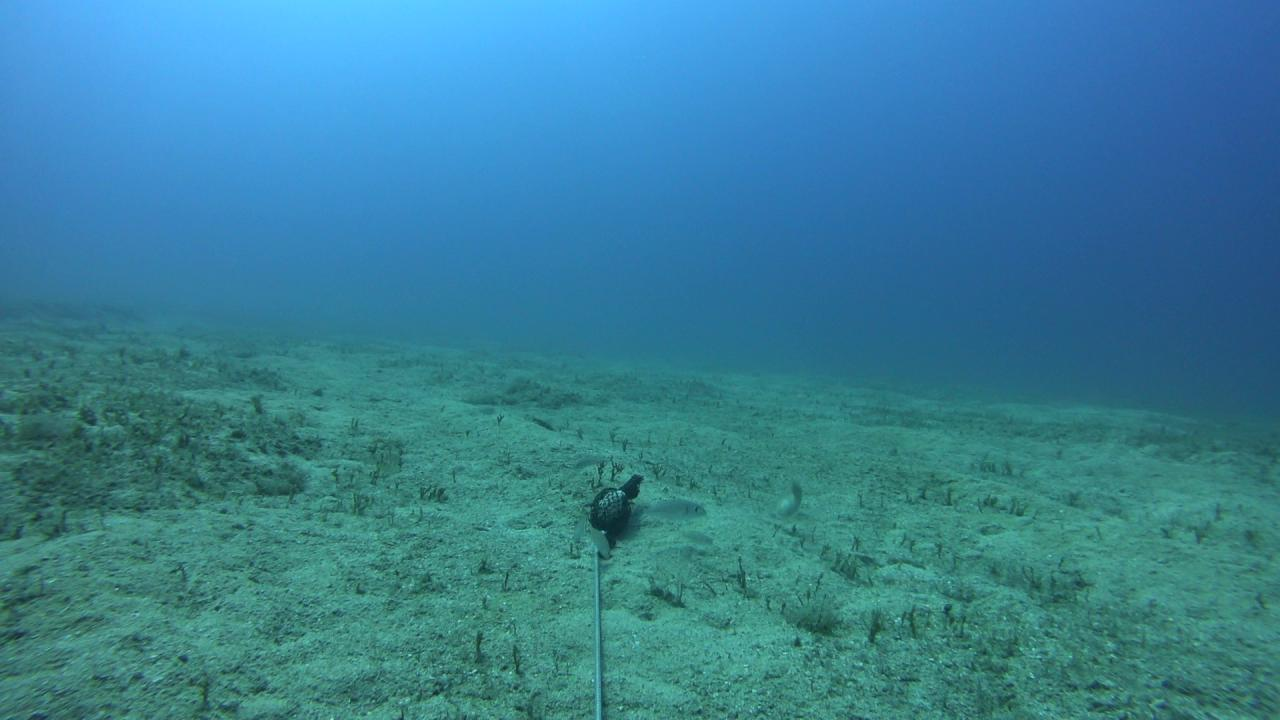pagellus: (636, 498, 708, 524), (590, 526, 612, 558), (574, 454, 608, 474), (682, 532, 715, 544)
